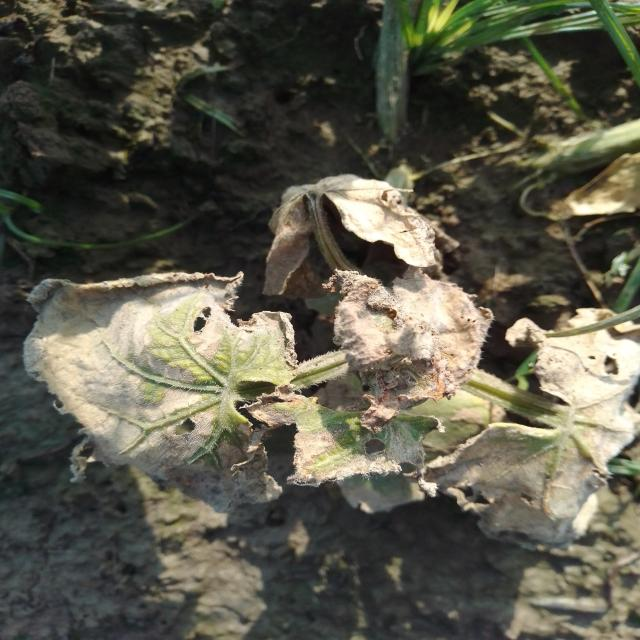cucumber_bacterial: (31, 277, 284, 515), (327, 270, 498, 435), (505, 311, 640, 517), (263, 161, 445, 263)
